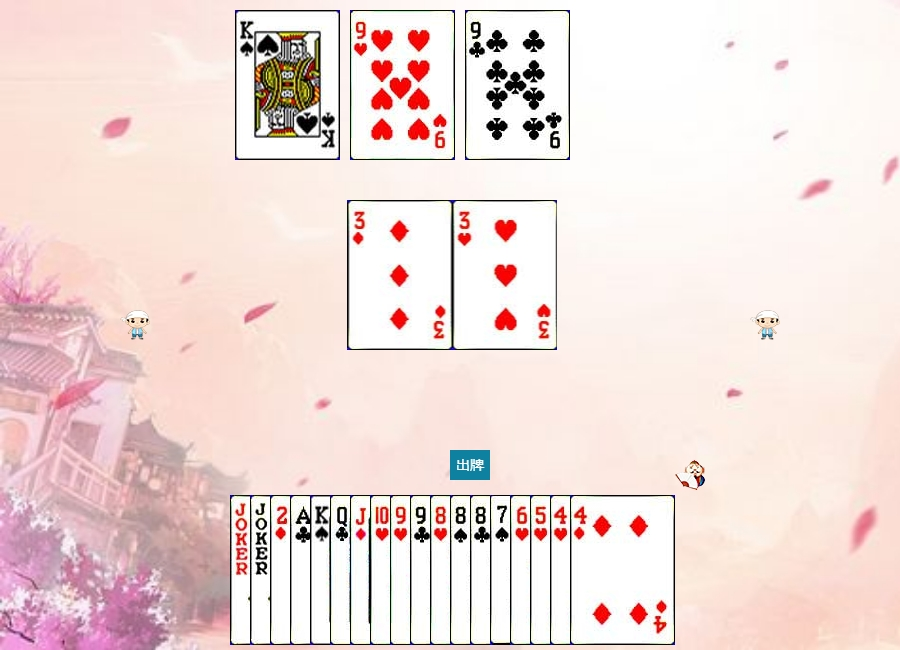10~3: (370, 495, 475, 645)
11~1: (350, 495, 455, 645)
12~2: (330, 495, 435, 645)
13~4: (235, 10, 340, 160), (310, 495, 415, 645)
14~2: (290, 495, 395, 645)
15~1: (270, 495, 375, 645)
17~3: (250, 495, 355, 645)
18~4: (230, 495, 335, 645)
3~1: (348, 200, 453, 350)
3~3: (453, 200, 558, 350)
4~1: (570, 495, 675, 645)
4~3: (550, 495, 655, 645)
5~3: (530, 495, 635, 645)
6~3: (510, 495, 615, 645)
7~4: (490, 495, 595, 645)
8~2: (470, 495, 575, 645)
8~3: (430, 495, 535, 645)
8~4: (450, 495, 555, 645)
9~2: (465, 10, 570, 160), (410, 495, 515, 645)
9~3: (350, 10, 455, 160), (390, 495, 495, 645)
